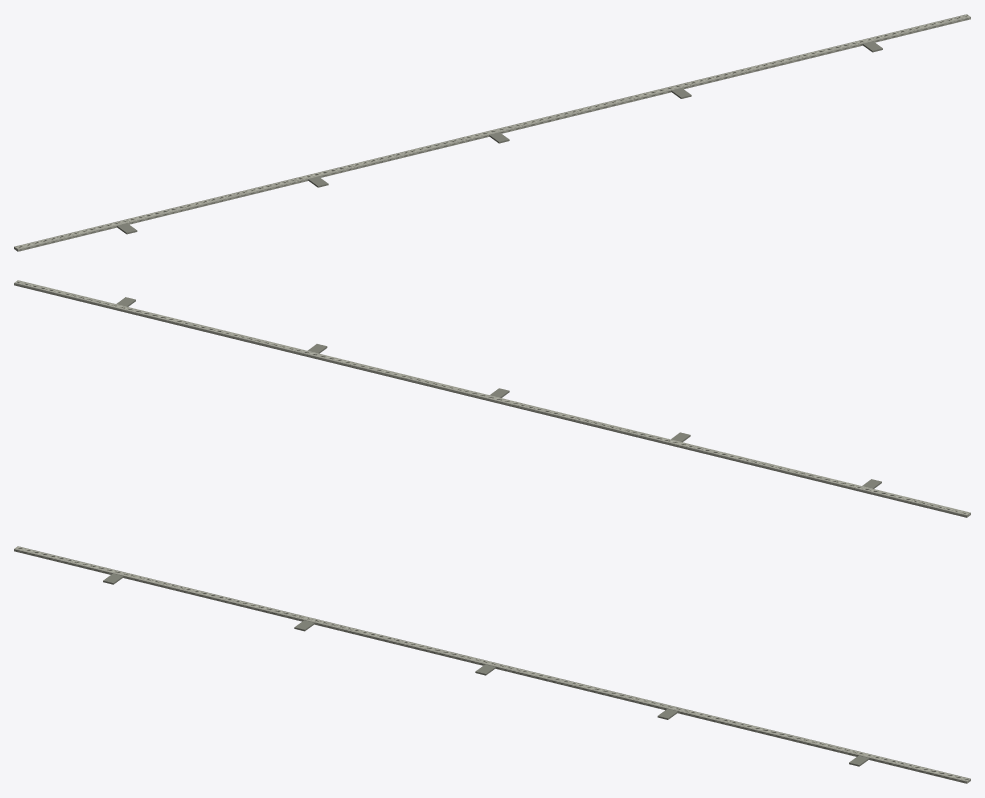
Rendered from fence.FBX.
3 views of the same model, one above another, from view 1: azimuth 30°, elevation 25°; view 2: azimuth 150°, elevation 25°; view 3: azimuth 330°, elevation 25° (orthographic).
Parts seen in each view (by area): view 1: Box002; view 2: Box002; view 3: Box002.
Boxes of the visible parts, x1,y1,x2,y2 form: Box002: (14,14,970,251); Box002: (14,280,970,517); Box002: (14,546,970,783).
Bounding box in the file's own units: 4456 × 10.5 × 112.
